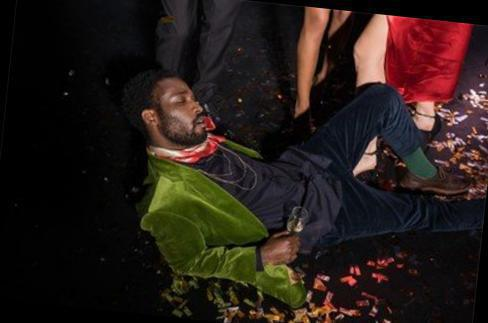Drunk: (157, 79, 207, 142)
